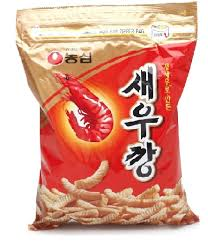snack1: (11, 1, 204, 232)
